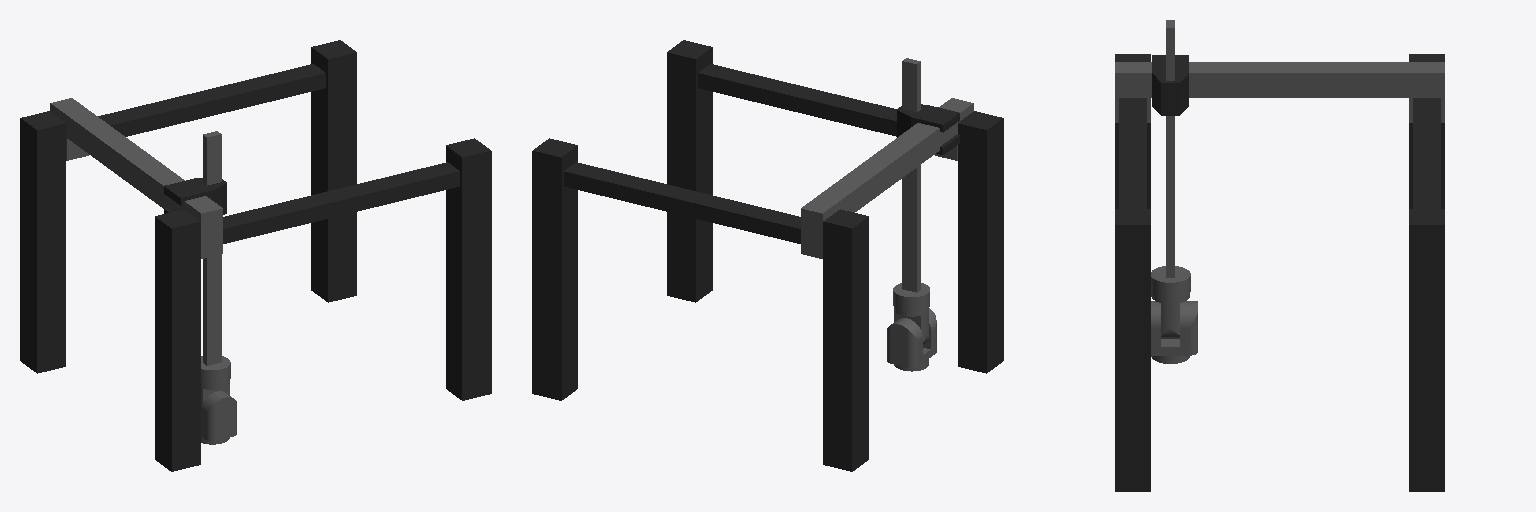
robot.urdf — gantry:
<?xml version="1.0" ?>
<robot name="gantry">

	<!-- * * * Link Definitions * * * -->

	<link name="base">
		<visual>
			<origin xyz="0 0 0" rpy="0 0 0"/>
			<material name="gray1">
				<color rgba="0.2 0.2 0.2 1"/>
			</material>
            <geometry>
                <mesh filename="gantry_mesh/base_back.stl" scale="0.001 0.001 0.001"/>
            </geometry>
		</visual>
		<visual>
			<origin xyz="0 0 0" rpy="0 0 0"/>
			<material name="gray1">
				<color rgba="0.2 0.2 0.2 1"/>
			</material>
			<geometry>
                <mesh filename="gantry_mesh/base_front.stl" scale="0.001 0.001 0.001"/>
            </geometry>
		</visual>
		<collision>
			<origin xyz="0 0 0" rpy="0 0 0"/>
			<material name="gray1">
				<color rgba="0.2 0.2 0.2 1"/>
			</material>
            <geometry>
                <mesh filename="gantry_mesh/base_back.stl" scale="0.001 0.001 0.001"/>
            </geometry>
		</collision>
		<collision>
			<origin xyz="0 0 0" rpy="0 0 0"/>
			<material name="gray1">
				<color rgba="0.2 0.2 0.2 1"/>
			</material>
            <geometry>
                <mesh filename="gantry_mesh/base_front.stl" scale="0.001 0.001 0.001"/>
            </geometry>
		</collision>
	</link>

	<link name="wagon_x">
		<visual>
			<origin xyz="0 0 0" rpy="0 0 0"/>
			<material name="gray2">
				<color rgba="0.4 0.4 0.4 1"/>
			</material>
            <geometry>
                <mesh filename="gantry_mesh/wagon_x.stl" scale="0.001 0.001 0.001"/>
            </geometry>
		</visual>
		<collision>
			<origin xyz="0 0 0" rpy="0 0 0"/>
            <geometry>
                <mesh filename="gantry_mesh/wagon_x.stl" scale="0.001 0.001 0.001"/>
            </geometry>
		</collision>
	</link>

	<link name="wagon_y">
		<visual>
			<origin xyz="0 0 0" rpy="0 0 0"/>
			<material name="gray1">
				<color rgba="0.2 0.2 0.2 1"/>
			</material>
            <geometry>
                <mesh filename="gantry_mesh/wagon_y.stl" scale="0.001 0.001 0.001"/>
            </geometry>
		</visual>
		<collision>
			<origin xyz="0 0 0" rpy="0 0 0"/>
            <geometry>
                <mesh filename="gantry_mesh/wagon_y.stl" scale="0.001 0.001 0.001"/>
            </geometry>
		</collision>
	</link>

	<link name="wagon_z">
		<visual>
			<origin xyz="0 0 0" rpy="0 0 0"/>
			<material name="gray2">
				<color rgba="0.4 0.4 0.4 1"/>
			</material>
            <geometry>
                <mesh filename="gantry_mesh/wagon_z.stl" scale="0.001 0.001 0.001"/>
            </geometry>
		</visual>
		<collision>
			<origin xyz="0 0 0" rpy="0 0 0"/>
            <geometry>
                <mesh filename="gantry_mesh/wagon_z.stl" scale="0.001 0.001 0.001"/>
            </geometry>
		</collision>
	</link>

	<link name="wagon_a">
		<visual>
			<origin xyz="-0.455 -0.305 0" rpy="0 0 0"/>
			<material name="gray2">
				<color rgba="0.4 0.4 0.4 1"/>
			</material>
            <geometry>
                <mesh filename="gantry_mesh/wagon_a.stl" scale="0.001 0.001 0.001"/>
            </geometry>
		</visual>
		<collision>
			<origin xyz="-0.455 -0.305 0" rpy="0 0 0"/>
            <geometry>
                <mesh filename="gantry_mesh/wagon_a.stl" scale="0.001 0.001 0.001"/>
            </geometry>
		</collision>
	</link>

	<link name="wagon_b">
		<visual>
			<origin xyz="-0.455 -0.305 -0.215" rpy="0 0 0"/>
			<material name="gray2">
				<color rgba="0.4 0.4 0.4 1"/>
			</material>
            <geometry>
                <mesh filename="gantry_mesh/wagon_b.stl" scale="0.001 0.001 0.001"/>
            </geometry>
		</visual>
		<collision>
			<origin xyz="-0.455 -0.305 -0.215" rpy="0 0 0"/>
            <geometry>
                <mesh filename="gantry_mesh/wagon_b.stl" scale="0.001 0.001 0.001"/>
            </geometry>
		</collision>
	</link>

	<link name="wagon_c">
		<visual>
			<origin xyz="-0.455 -0.305 -0.215" rpy="0 0 0"/>
			<material name="gray2">
				<color rgba="0.4 0.4 0.4 1"/>
			</material>
			<geometry>
				<mesh filename="gantry_mesh/wagon_c.stl" scale="0.001 0.001 0.001"/>
			</geometry>
		</visual>
		<collision>
			<origin xyz="-0.455 -0.305 -0.215" rpy="0 0 0"/>
			<geometry>
				<mesh filename="gantry_mesh/wagon_c.stl" scale="0.001 0.001 0.001"/>
			</geometry>
		</collision>
	</link>


	<joint name="x_axis" type="prismatic">
		<parent link="base"/>
		<child link="wagon_x"/>
		<origin rpy="0 0 0" xyz="-0 0 0"/>
		<axis xyz="1 0 0"/>
		<limit effort="200" lower="-0" upper="1.5" velocity="0.2"/>
	</joint>

	<joint name="y_axis" type="prismatic">
		<parent link="wagon_x"/>
		<child link="wagon_y"/>
		<origin rpy="0 0 0" xyz="0 0 0"/>
		<axis xyz="0 1 0"/>
		<limit effort="200" lower="-0" upper="1.2" velocity="0.2"/>
	</joint>

	<joint name="z_axis" type="prismatic">
		<parent link="wagon_y"/>
		<child link="wagon_z"/>
		<origin rpy="0 0 0" xyz="-0 0 0"/>
		<axis xyz="0 0 1"/>
		<limit effort="200" lower="-0" upper="1.0" velocity="0.2"/>
	</joint>

	<joint name="a_axis" type="revolute">
		<parent link="wagon_z"/>
		<child link="wagon_a"/>
		<origin xyz="0.455 0.305 0" rpy="0 0 0"/>
		<axis xyz="0 0 1"/>
		<limit effort="20000" lower="-3.14159265358" upper="3.14159265358" velocity="1.91986217719"/>
	</joint>

	<joint name="b_axis" type="revolute">
		<parent link="wagon_a"/>
		<child link="wagon_b"/>
		<origin xyz="0. 0 0.215" rpy="0 0 0"/>
		<axis xyz="0 1 0"/>
		<limit effort="20000" lower="-3.14159265358" upper="3.14159265358" velocity="1.91986217719"/>
	</joint>

	<joint name="c_axis" type="revolute">
		<parent link="wagon_b"/>
		<child link="wagon_c"/>
		<origin xyz="0 0 0" rpy="0 0 0"/>
		<axis xyz="0 0 1"/>
		<limit effort="20000" lower="-3.14159265358" upper="3.14159265358" velocity="1.91986217719"/>
	</joint>
</robot>

--- Render facts (derived) ---
The picture shows the robot from 3 angles, left to right: view 1: azimuth 30°, elevation 25°; view 2: azimuth 150°, elevation 25°; view 3: azimuth 270°, elevation 25°; orthographic projection.
Model gantry with 7 links and 6 joints (3 revolute, 3 prismatic), rooted at base, posed every joint at zero.
Links seen in each view (by area): view 1: base, wagon_x, wagon_z, wagon_b, wagon_y; view 2: base, wagon_x, wagon_z, wagon_b, wagon_y; view 3: base, wagon_x, wagon_z, wagon_y, wagon_b, wagon_a.
Link boxes in pixels (box(x1,y1,x2,y2)): base: box(20, 40, 491, 471); wagon_x: box(50, 98, 222, 258); wagon_z: box(201, 131, 230, 385); wagon_b: box(201, 391, 236, 440); wagon_y: box(164, 178, 226, 214); base: box(532, 40, 1003, 471); wagon_x: box(801, 98, 973, 258); wagon_z: box(893, 58, 929, 312); wagon_b: box(887, 308, 936, 367); wagon_y: box(897, 104, 959, 154); base: box(1115, 54, 1444, 491); wagon_x: box(1115, 62, 1444, 122); wagon_z: box(1151, 20, 1190, 299); wagon_y: box(1152, 55, 1188, 115); wagon_b: box(1151, 301, 1197, 355); wagon_a: box(1151, 294, 1189, 338).
Size in the robot's own frame: 2.2 by 1.8 by 1.99 metres.
8 mesh visuals loaded from 8 distinct referenced files (8 binary STL).